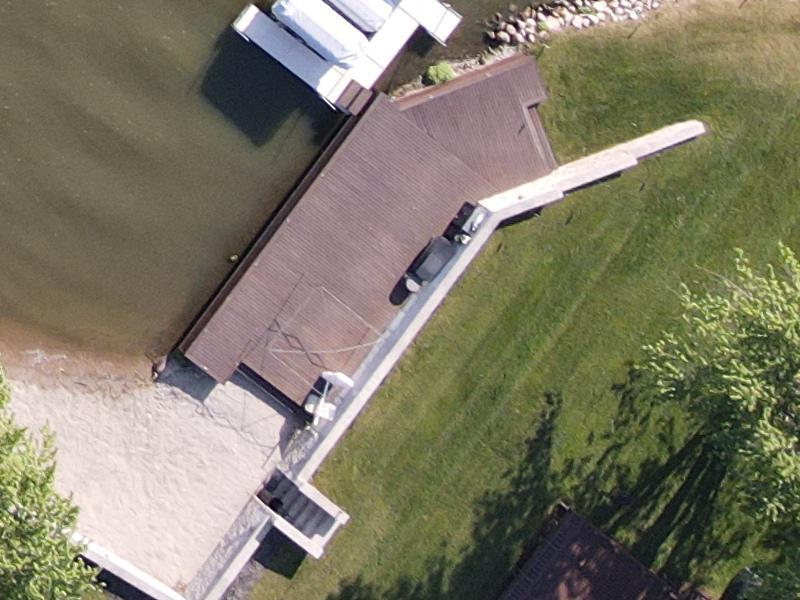boat: (180, 64, 564, 410), (245, 0, 580, 110)
